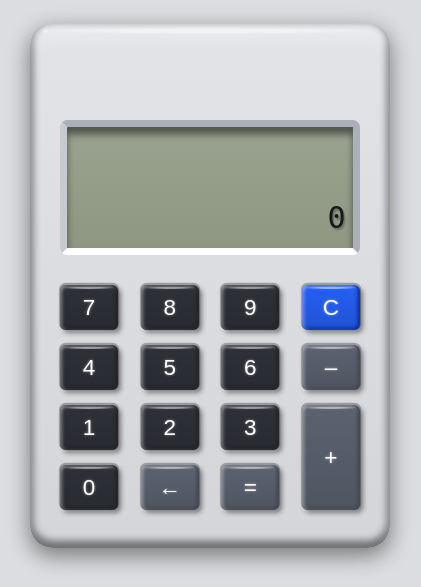
Test: Calculator Page › Calculator Functionality › Operator Buttons › should append the operator to the expression
What coordinates should you click on to do the following:
click the button "1"
I would click on:
 (89, 428)
Its box is [60,405,118,450].
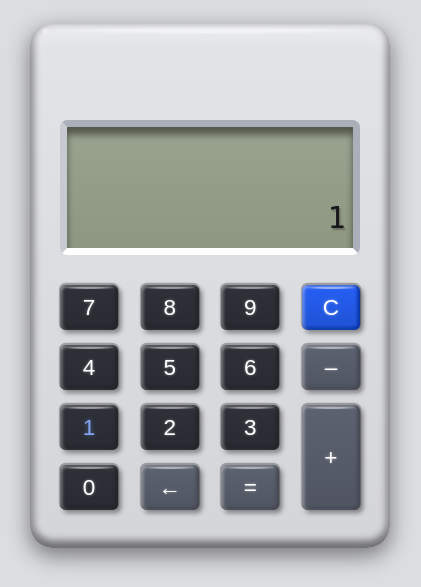
What coordinates should you click on to do the following:
click the button "+"
I would click on:
 (331, 458)
Its box is [302,405,360,510].
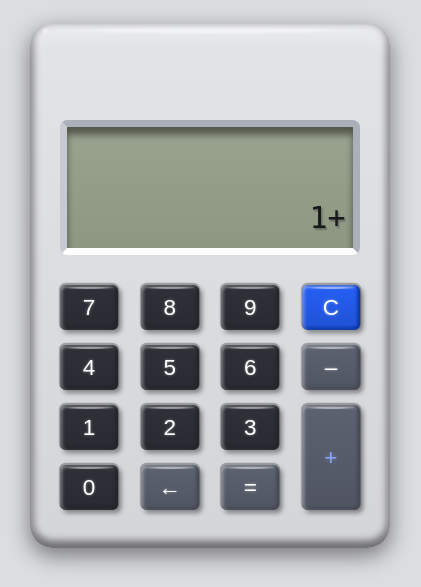
expect the element with class "calc__screen-line--expression" reads "1+": met, box [309,200,345,235]
What coordinates should you click on to do the following:
click the button "5"
I would click on:
 (170, 368)
Its box is [141,345,199,390].
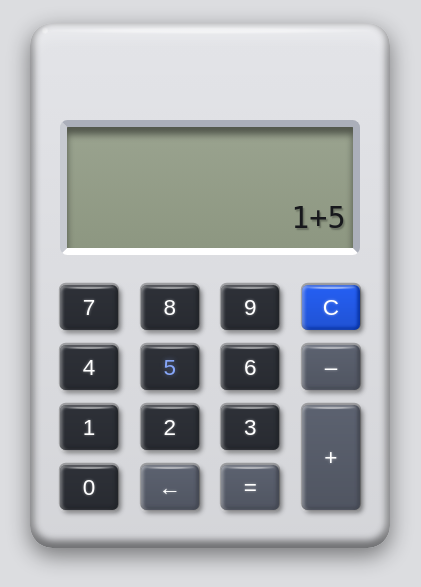
What coordinates should you click on to do the following:
click the button "6"
I would click on:
 (250, 368)
Its box is [221,345,279,390].
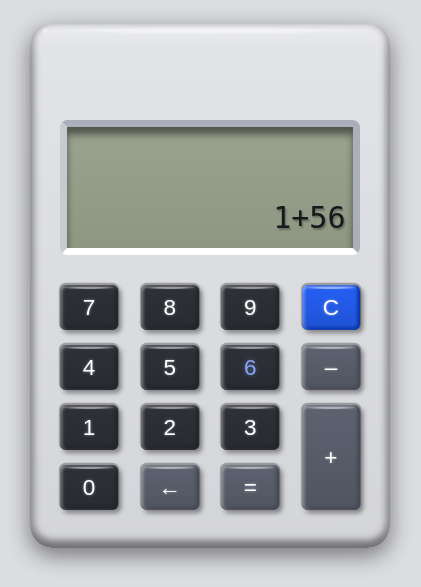
What coordinates should you click on to do the following:
click the button "–"
I would click on:
 (331, 368)
Its box is [302,345,360,390].
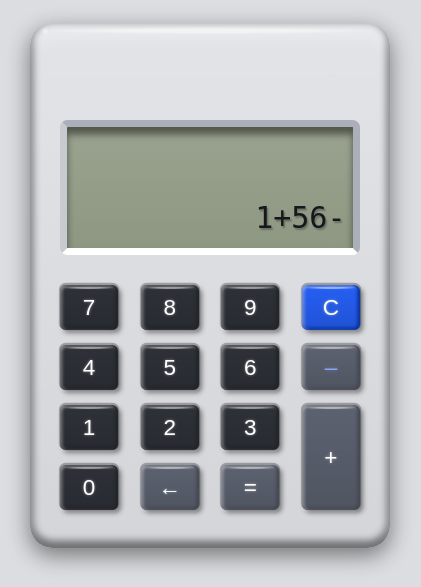
expect the element with class "calc__screen-line--expression" reads "1+56-": met, box [255,200,345,235]
